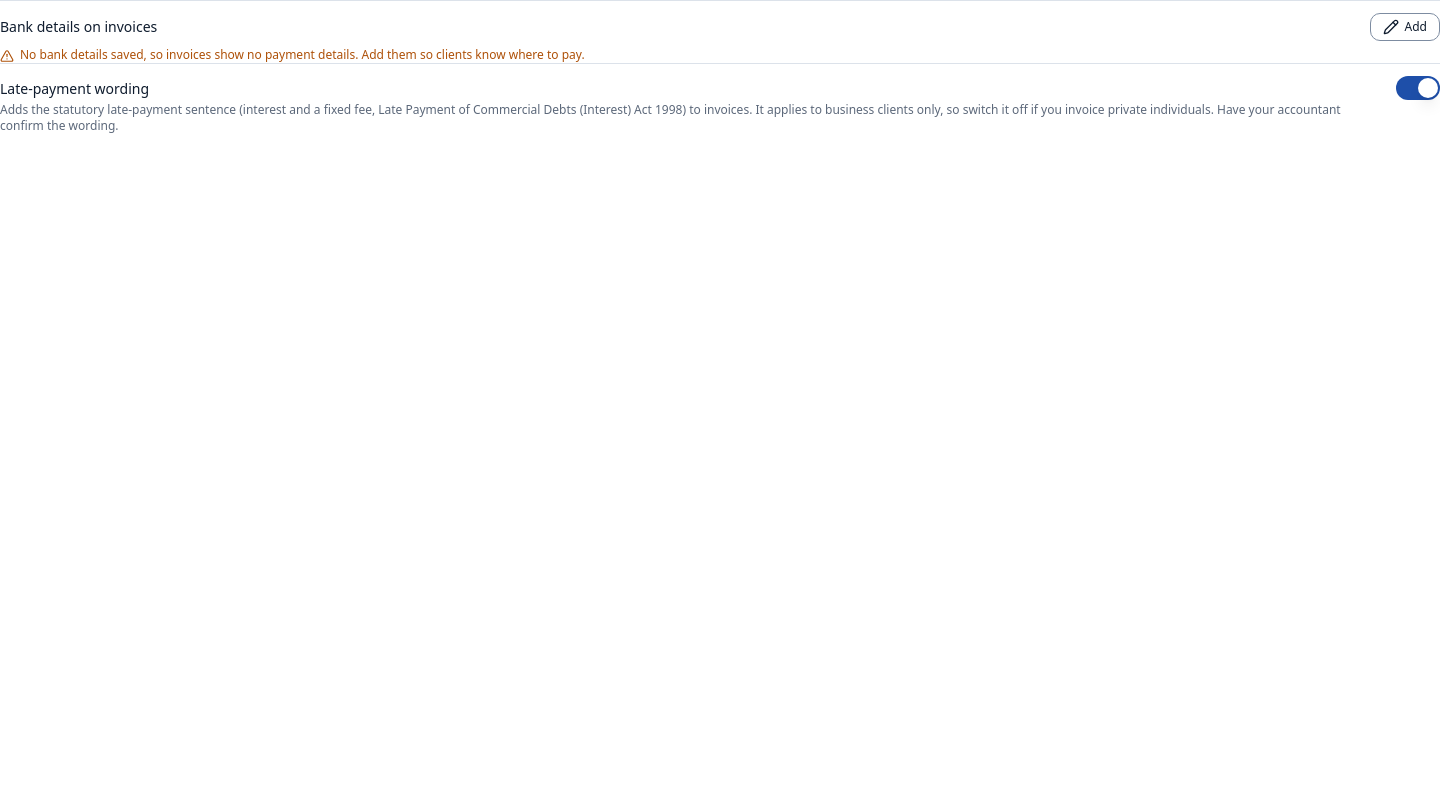
OrgPaymentSettings › shows what is wrong and saves nothing for a bad entry
Click the button "Add": (1405, 27) [1370,13,1439,41]
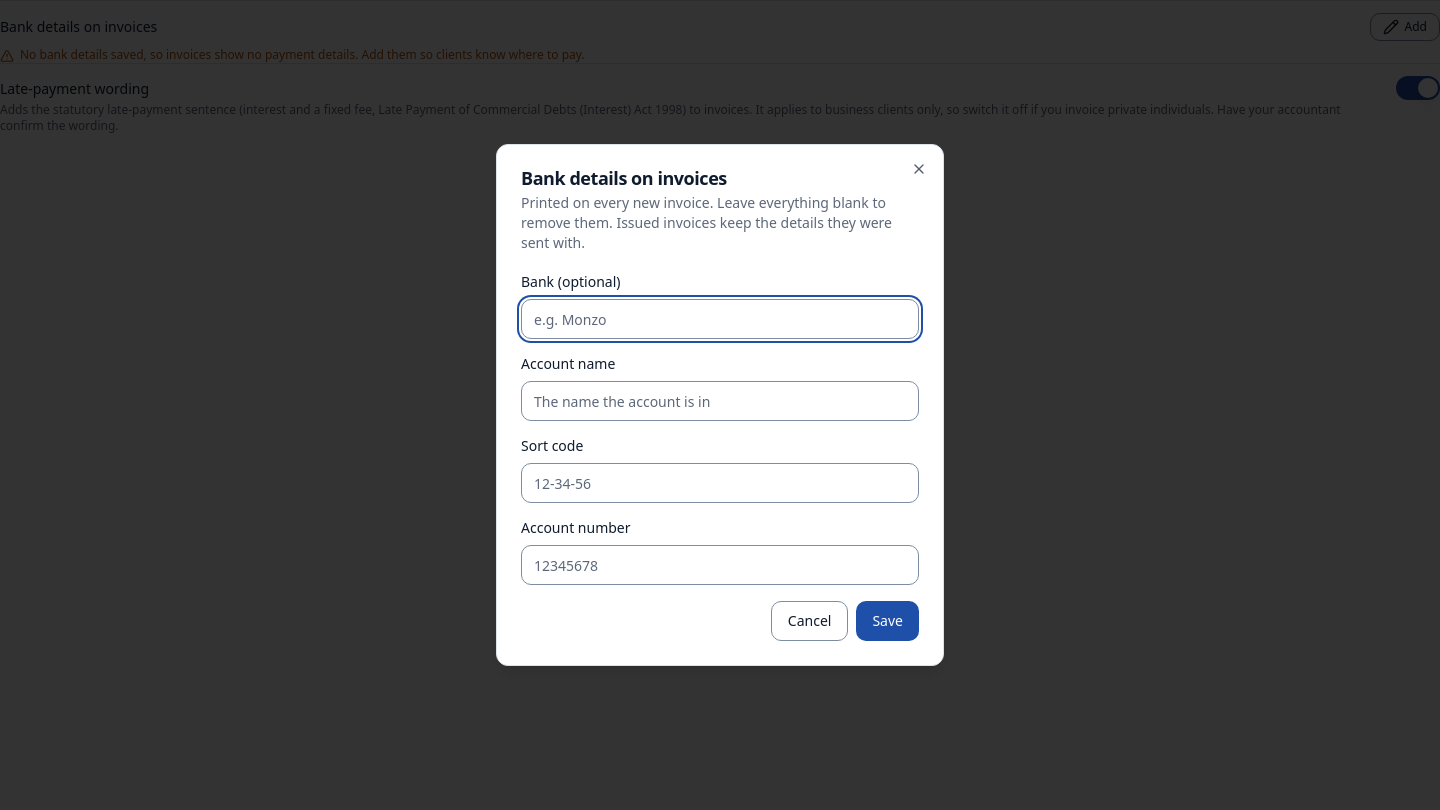
In the field labelled "Sort code": (720, 483) [521,463,919,503], type "12-34"
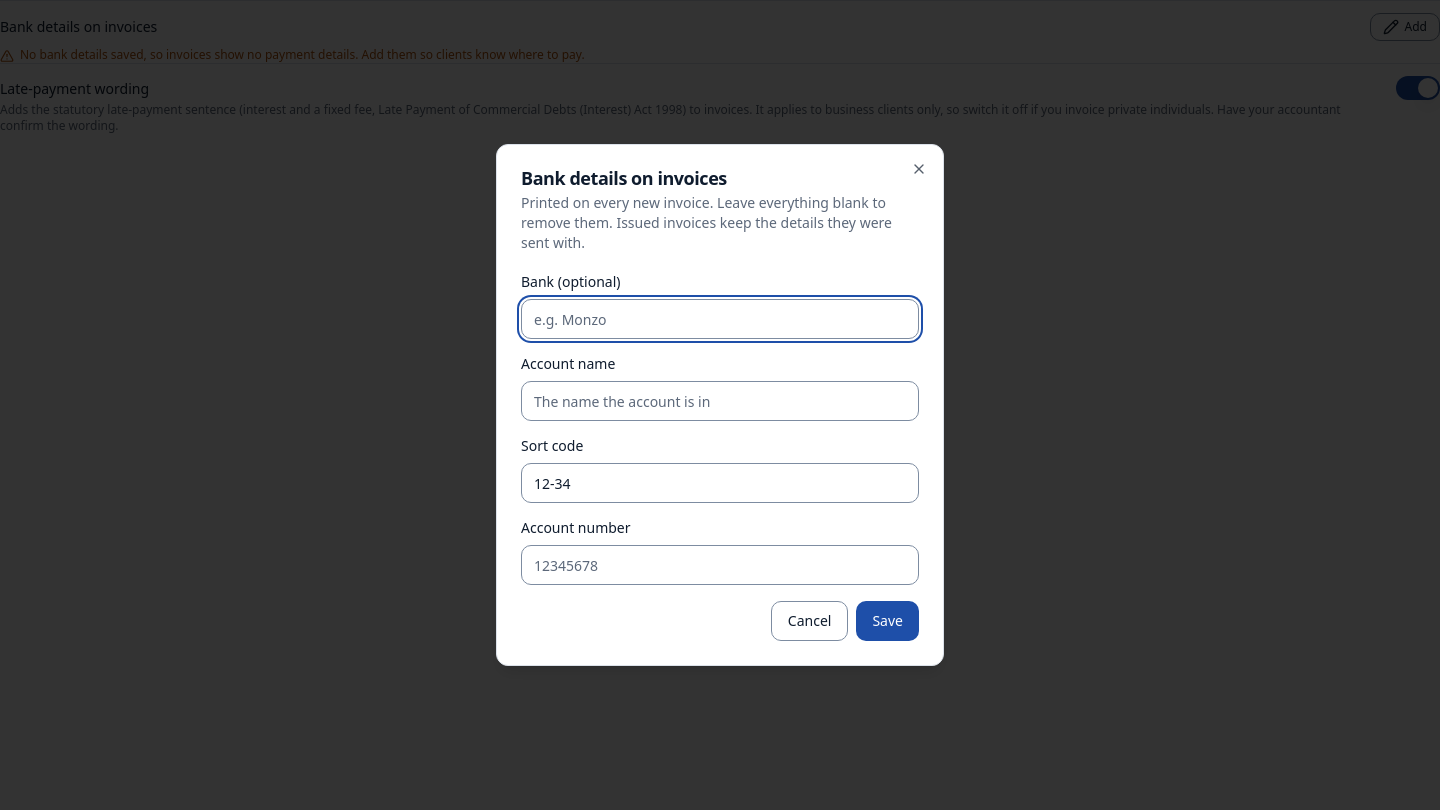
Click the button "Save": (888, 621) [856,601,919,641]
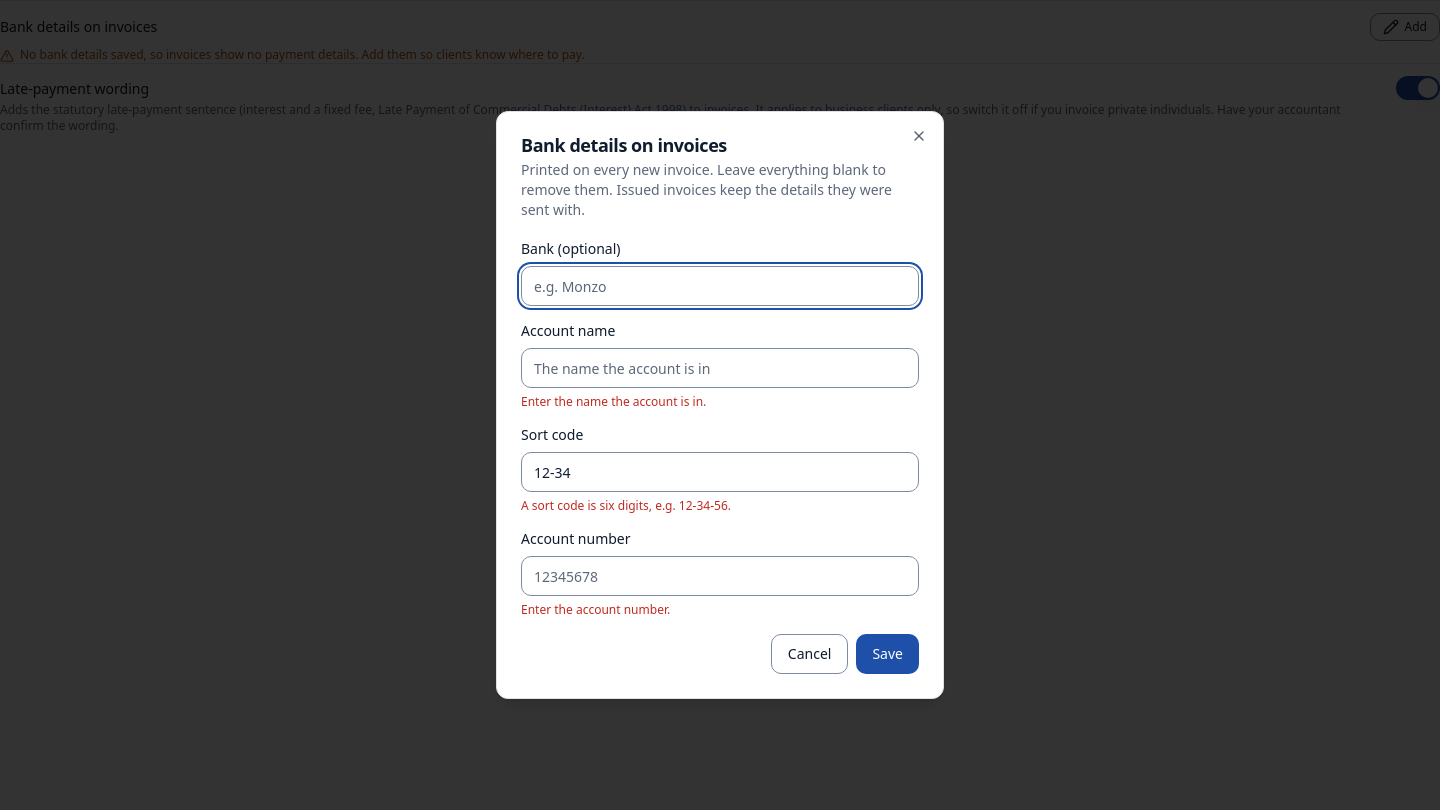
Check: the text "A sort code is six digits, e.g. 12-34-56." is shown, box [521,497,731,514]
Check: the text "Enter the account number." is shown, box [521,601,670,618]
